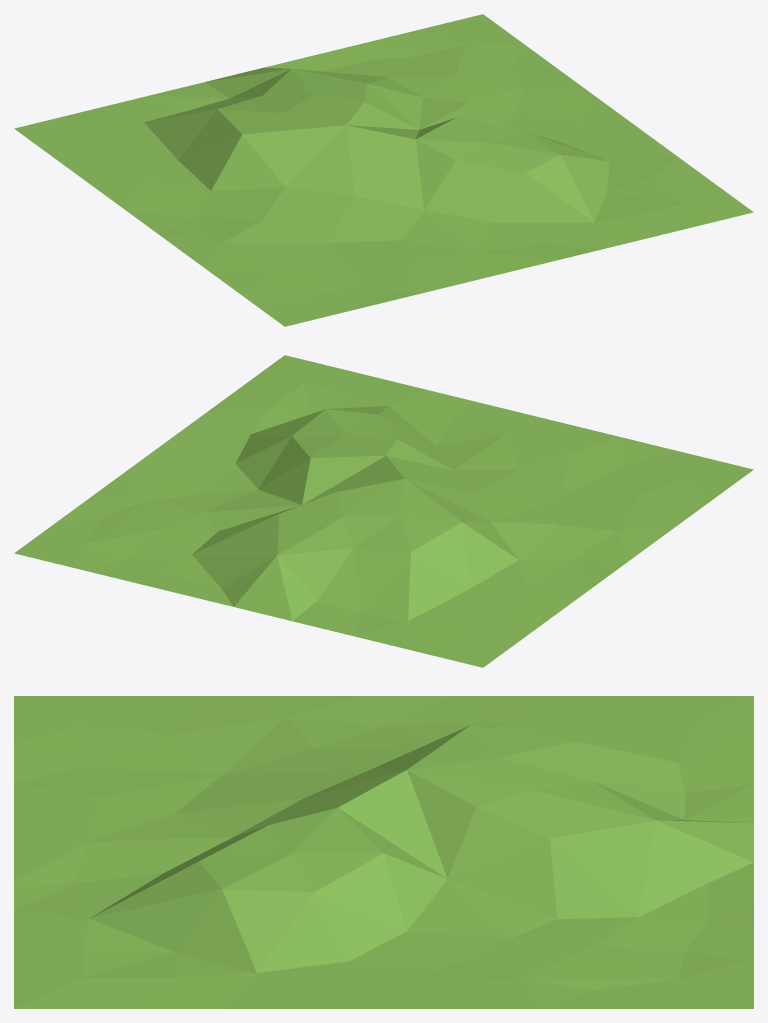
File: MT_Terrain_S_c_04_LOD.fbx
3 views of the same model, one above another, from view 1: azimuth 30°, elevation 25°; view 2: azimuth 150°, elevation 25°; view 3: azimuth 270°, elevation 25° (orthographic). The views are drawn at different scales.
Parts seen in each view (by area): view 1: MT_Terrain_S_c_04_LOD0; view 2: MT_Terrain_S_c_04_LOD0; view 3: MT_Terrain_S_c_04_LOD0.
Part boxes in pixels (left/top/right/bottom): MT_Terrain_S_c_04_LOD0: left=14, top=14, right=753, bottom=326; MT_Terrain_S_c_04_LOD0: left=14, top=355, right=753, bottom=667; MT_Terrain_S_c_04_LOD0: left=14, top=696, right=753, bottom=1008.
Size of what is drawn, in the model's own units: 2500 by 244 by 2500.
